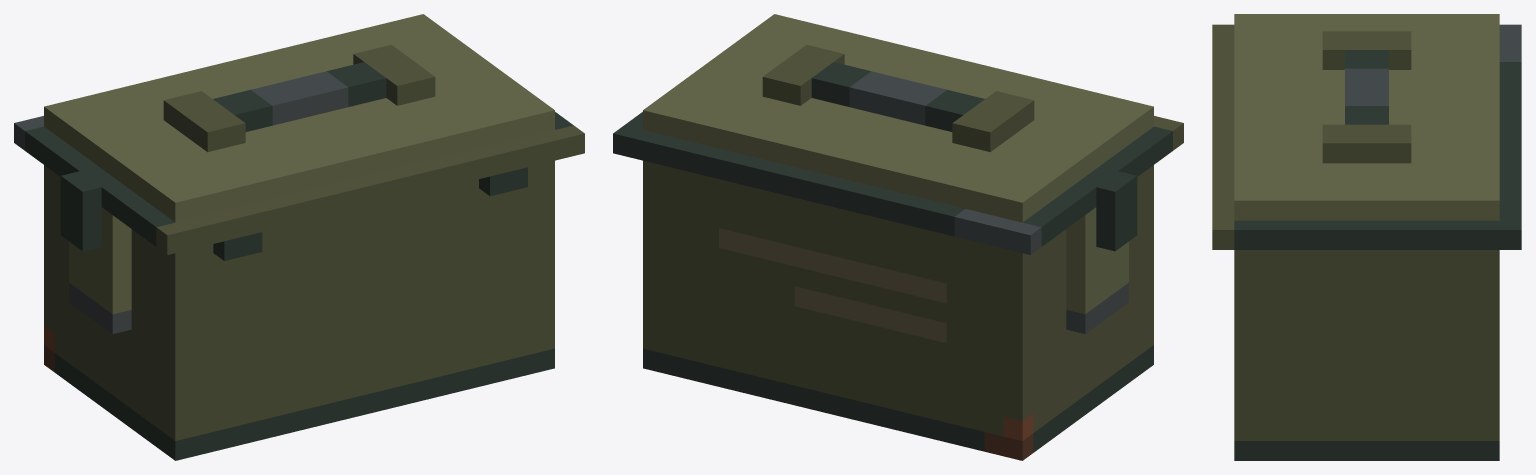
The model's file is Claude_ammunition_box.glb.
The picture shows the model from 3 angles, left to right: view 1: azimuth 30°, elevation 25°; view 2: azimuth 150°, elevation 25°; view 3: azimuth 270°, elevation 25°; orthographic projection.
Parts seen in each view (by area): view 1: Claude_ammunition_box; view 2: Claude_ammunition_box; view 3: Claude_ammunition_box.
Part boxes in pixels (left/top/right/bottom): Claude_ammunition_box: left=14, top=14, right=584, bottom=460; Claude_ammunition_box: left=613, top=14, right=1183, bottom=460; Claude_ammunition_box: left=1212, top=14, right=1521, bottom=460.
Bounding box in the file's own units: 0.2875 × 0.175 × 0.175.
